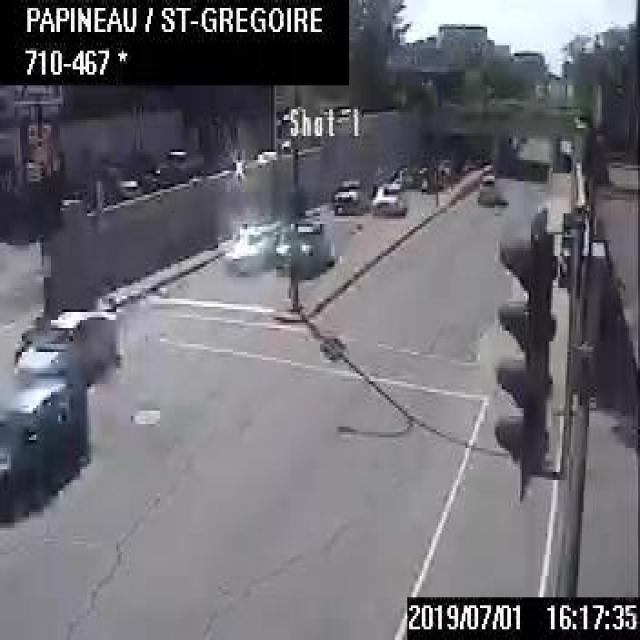vehicle: (0, 378, 89, 522), (12, 299, 121, 383), (272, 216, 333, 278), (222, 216, 270, 272), (368, 180, 406, 220), (333, 176, 366, 213), (478, 173, 500, 200)
